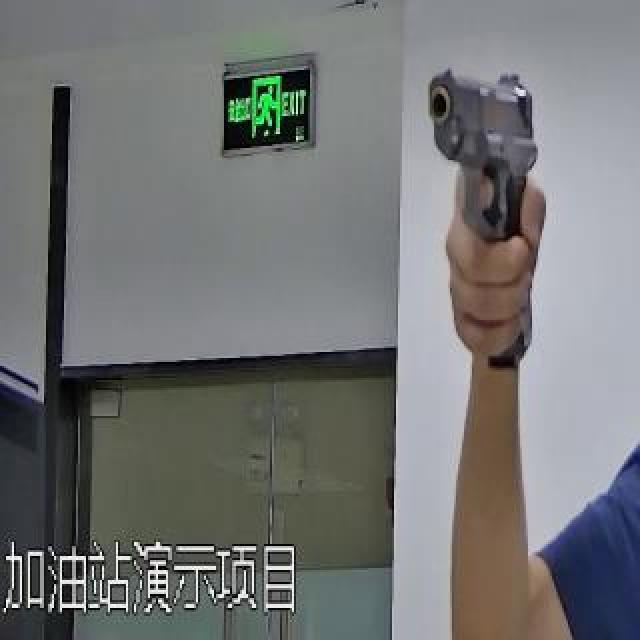Guns: (417, 41, 566, 378)
